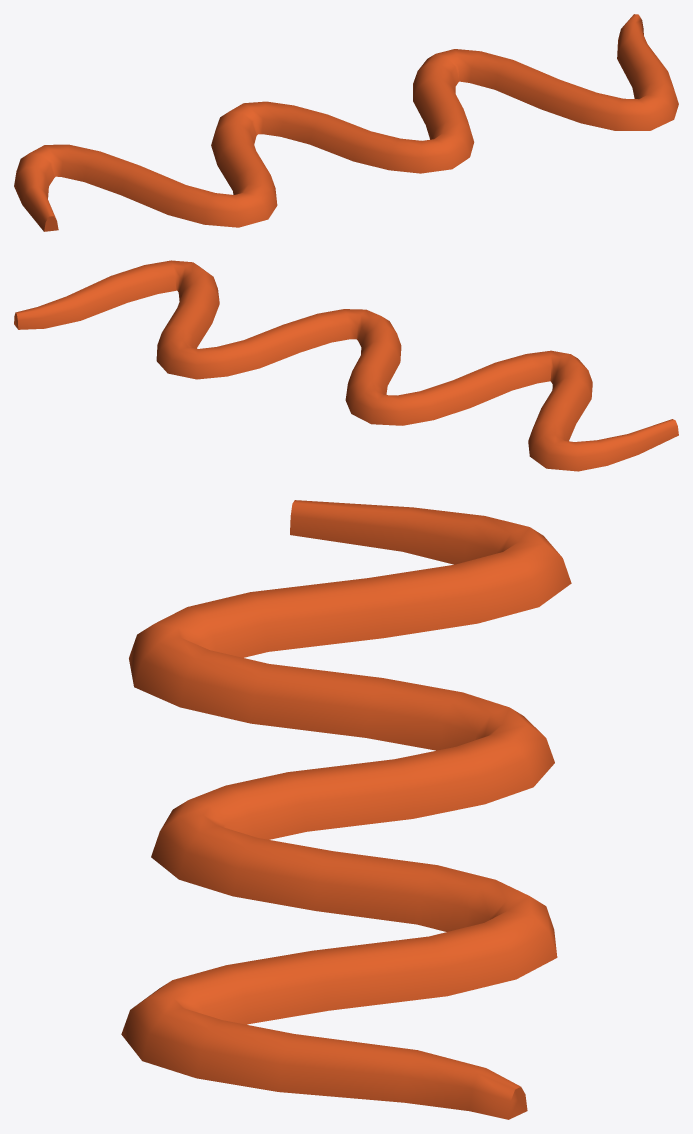
Rendered from Food_Chipotle_Ribbon.fbx.
The picture shows the model from 3 angles, top to bottom: view 1: azimuth 30°, elevation 25°; view 2: azimuth 150°, elevation 25°; view 3: azimuth 270°, elevation 25°; orthographic projection. The views are drawn at different scales.
Visible parts, largest first — view 1: Sauce; view 2: Sauce; view 3: Sauce.
Boxes of the visible parts, box(x1,y1,x2,y2) form: Sauce: box(14, 14, 678, 231); Sauce: box(14, 260, 678, 471); Sauce: box(121, 500, 571, 1119).
Size of the model in its own units: 203 by 6.94 by 64.81.
